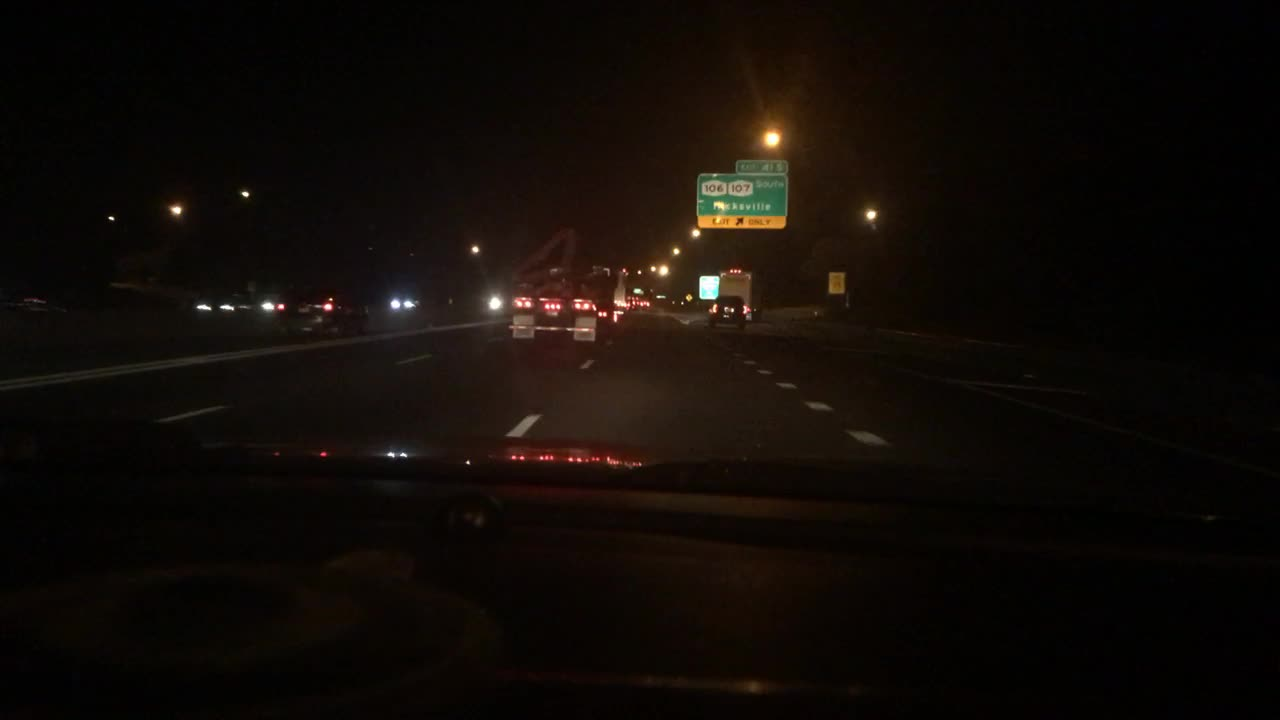car: (507, 269, 599, 337), (708, 295, 752, 326), (597, 305, 619, 324), (637, 298, 649, 306)
traffic sign: (699, 172, 786, 229), (737, 160, 788, 171), (699, 275, 720, 299), (827, 273, 843, 294), (682, 291, 692, 301)
truck: (719, 270, 751, 299)
